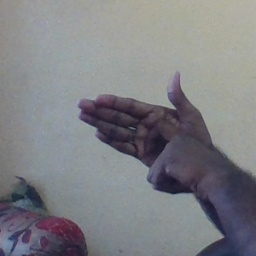R: (73, 66, 223, 205)
